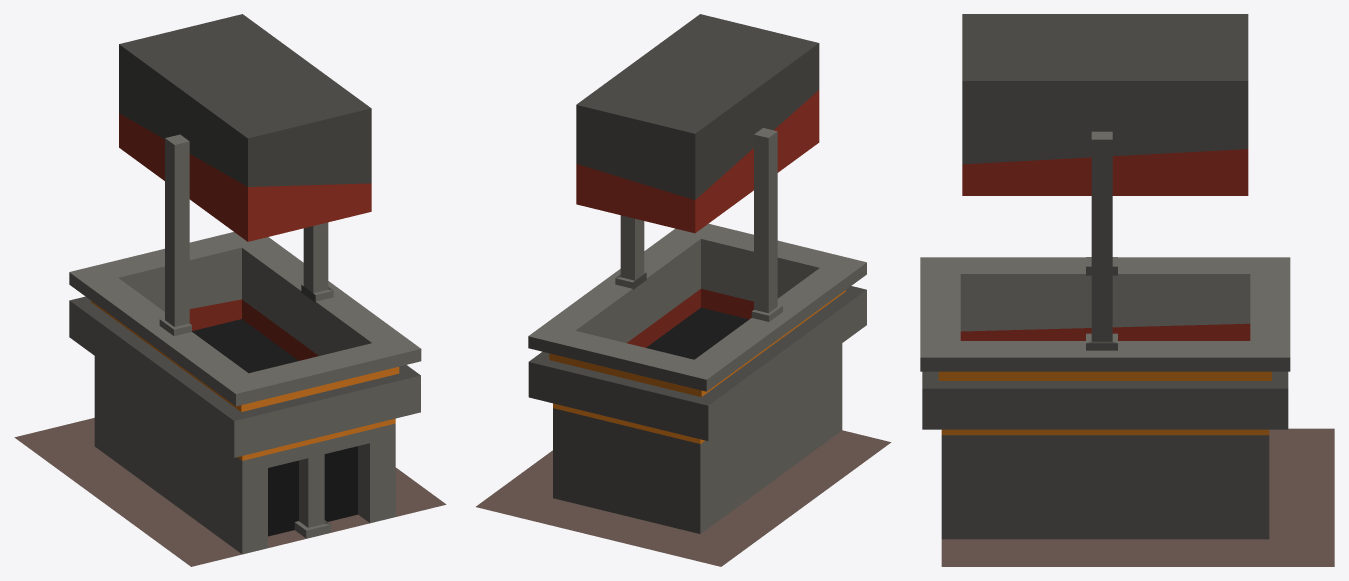
Rendered from Smusher-lvl002.fbx.
The picture shows the model from 3 angles, left to right: view 1: azimuth 30°, elevation 25°; view 2: azimuth 150°, elevation 25°; view 3: azimuth 270°, elevation 25°; orthographic projection. The views are drawn at different scales.
Visible parts, largest first — view 1: Deboner.007, Deboner.008; view 2: Deboner.007, Deboner.008; view 3: Deboner.007, Deboner.008.
Part boxes in pixels (<box>): Deboner.007: <box>14,134,446,566</box>; Deboner.008: <box>119,14,371,241</box>; Deboner.007: <box>476,128,891,566</box>; Deboner.008: <box>576,14,819,233</box>; Deboner.007: <box>920,131,1334,566</box>; Deboner.008: <box>962,14,1248,195</box>.
Size of the model in its own units: 500 by 758 by 632.
